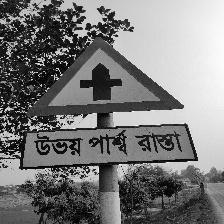Crossroad: (22, 34, 199, 175)
